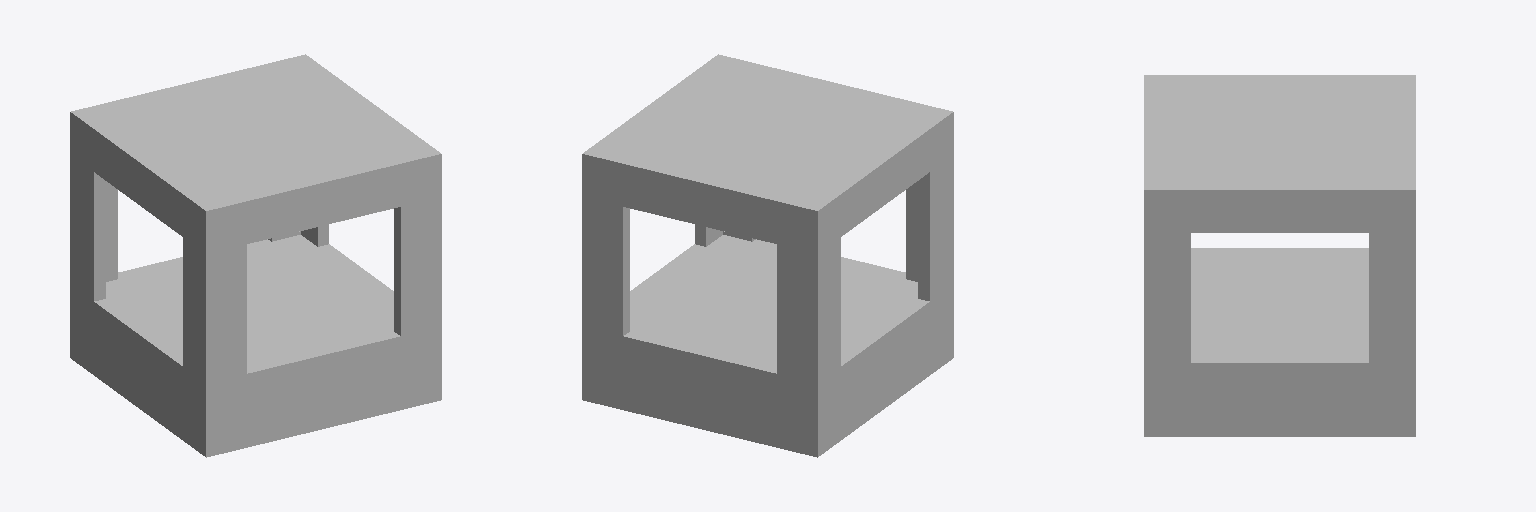
File: environmental.obj
The picture shows the model from 3 angles: view 1: azimuth 30°, elevation 25°; view 2: azimuth 150°, elevation 25°; view 3: azimuth 270°, elevation 25°; orthographic projection.
Parts seen in each view (by area): view 1: Cube.001_Cube.000; view 2: Cube.001_Cube.000; view 3: Cube.001_Cube.000.
Part boxes in pixels (left/top/right/bottom): Cube.001_Cube.000: left=70, top=54, right=441, bottom=457; Cube.001_Cube.000: left=582, top=54, right=953, bottom=457; Cube.001_Cube.000: left=1144, top=75, right=1415, bottom=436.
Size of the model in its own units: 1 by 1 by 1.